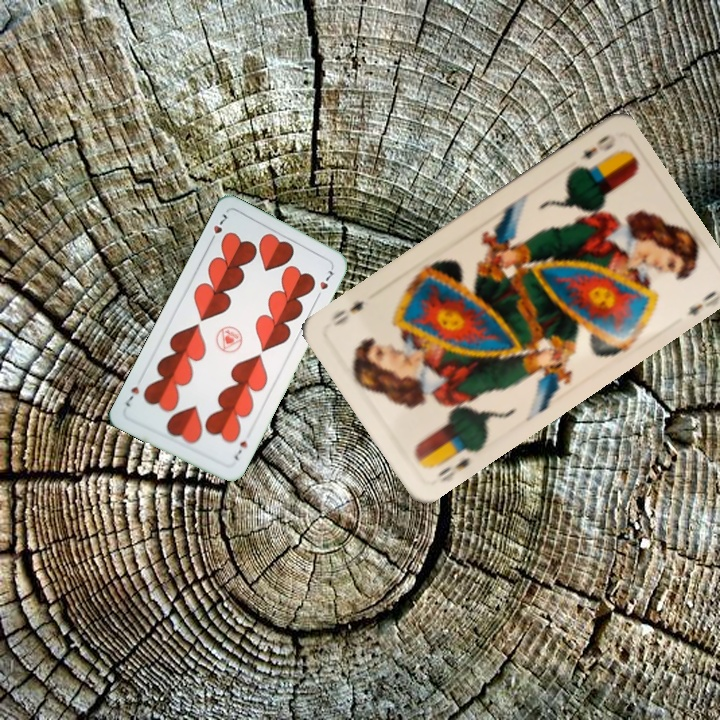EO: (425, 444, 479, 486), (575, 129, 619, 163)
H7: (206, 209, 231, 246), (229, 437, 250, 463)
